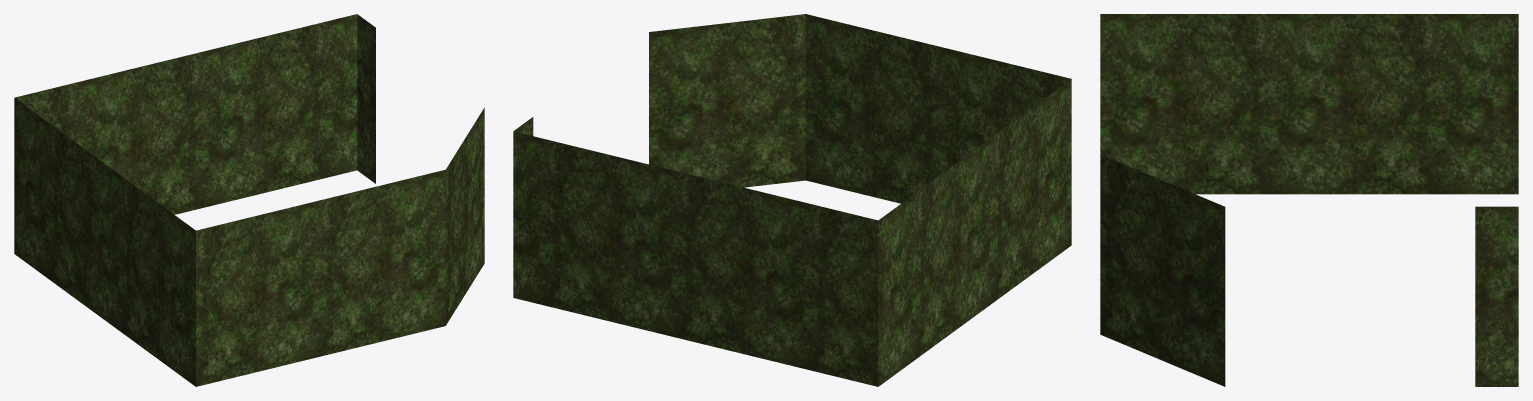
The model's file is OVERHILL_A_01_LINE213.fbx.
3 renders of one model, left to right at view 1: azimuth 30°, elevation 25°; view 2: azimuth 150°, elevation 25°; view 3: azimuth 270°, elevation 25°, orthographic. The views are drawn at different scales.
Parts seen in each view (by area): view 1: OVERHILL_A_01_LINE213; view 2: OVERHILL_A_01_LINE213; view 3: OVERHILL_A_01_LINE213.
Boxes of the visible parts, left/top/right/bottom form: OVERHILL_A_01_LINE213: left=14, top=14, right=484, bottom=386; OVERHILL_A_01_LINE213: left=513, top=14, right=1071, bottom=386; OVERHILL_A_01_LINE213: left=1100, top=14, right=1518, bottom=386.
Bounding box in the file's own units: 72967 × 31804 × 66957.
Materials: 1 (1 with a texture image).
